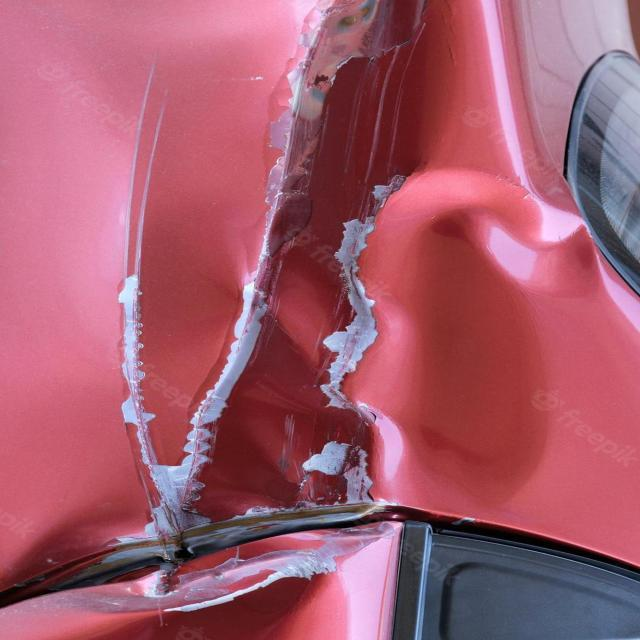dent: (44, 23, 516, 629)
